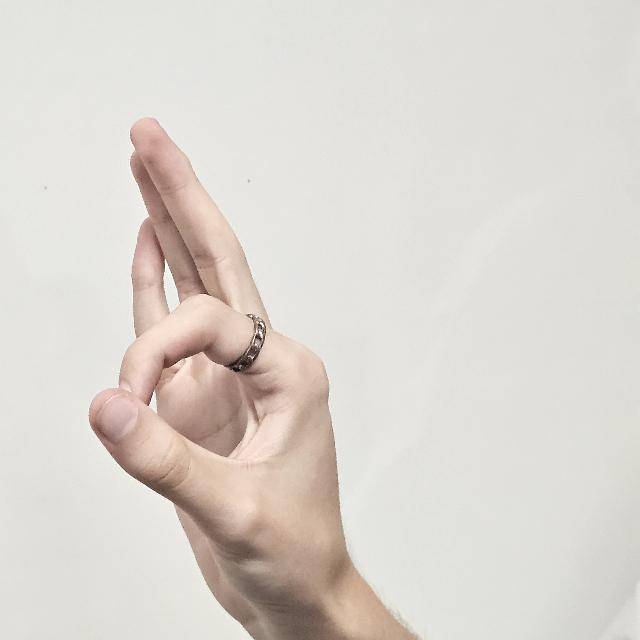Bolinha: (84, 102, 368, 620)
